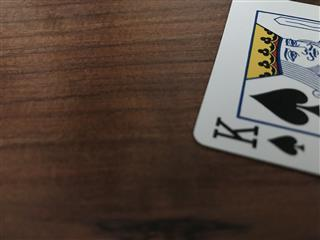KingOfSpades: (192, 1, 320, 177)
